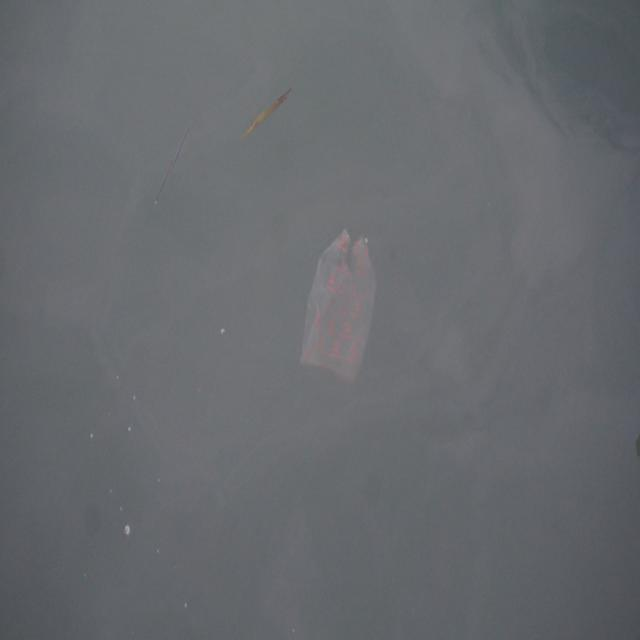Kantong Plastik: (300, 228, 379, 384)
